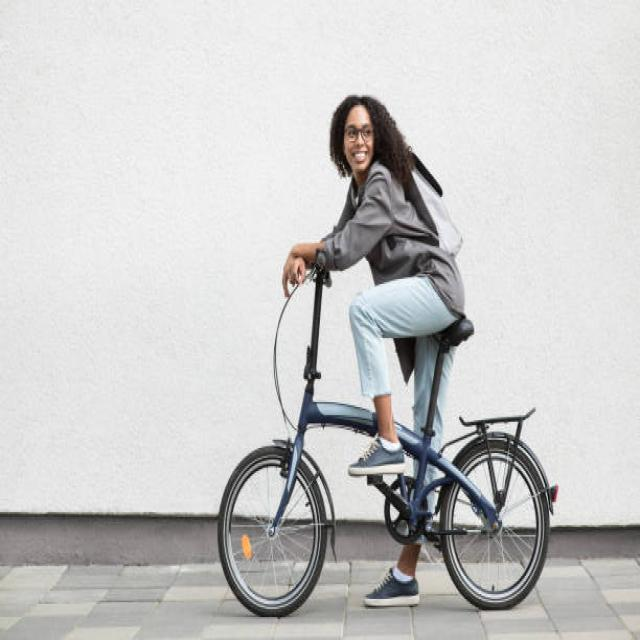bicycle: (219, 96, 558, 615)
